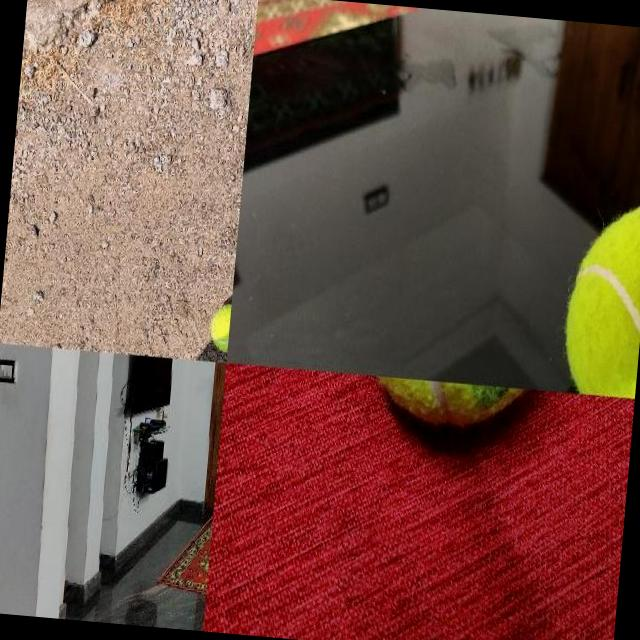Tennis Ball: (557, 190, 640, 397), (208, 302, 230, 351)
